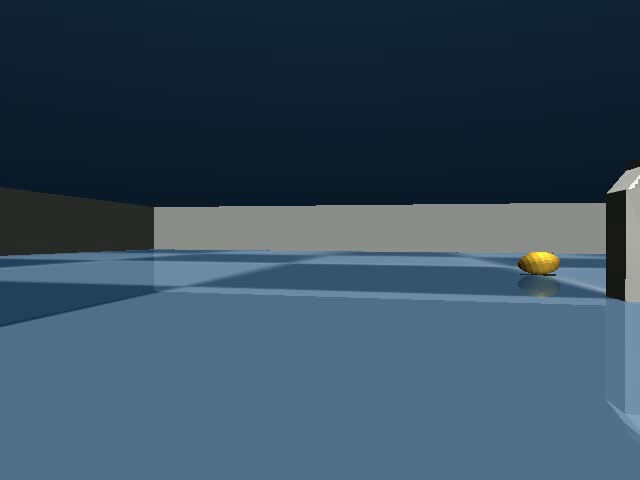lemon: (514, 247, 565, 279)
milk: (601, 155, 640, 309)
